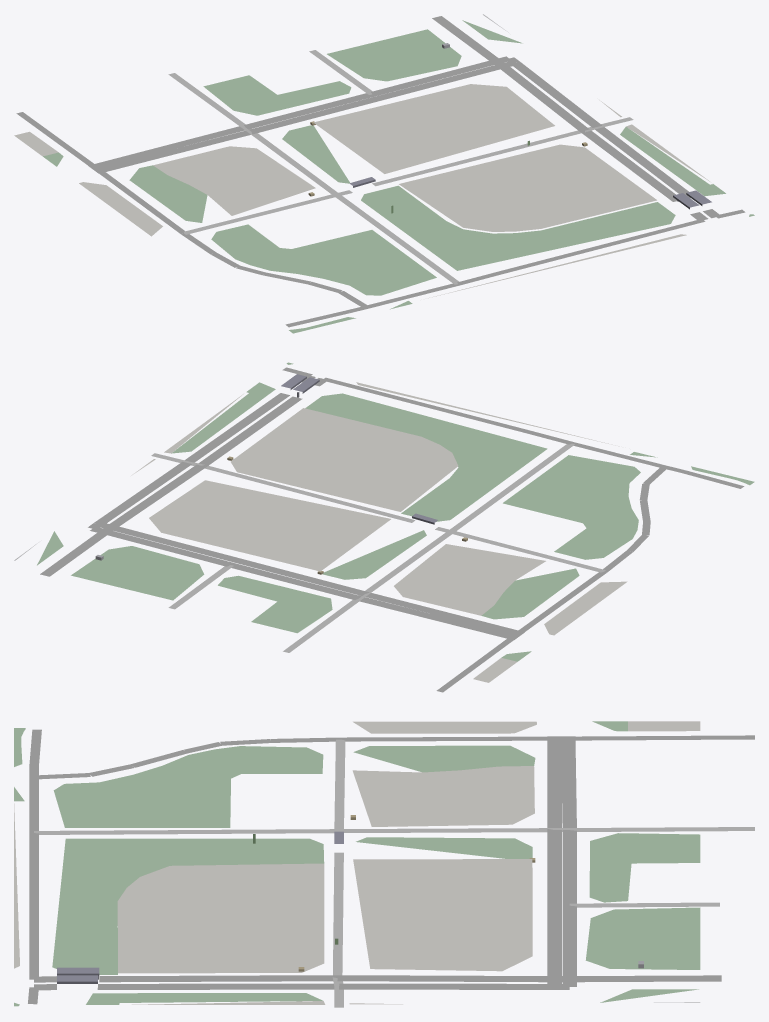
3 views of the same model, one above another, from view 1: azimuth 30°, elevation 25°; view 2: azimuth 150°, elevation 25°; view 3: azimuth 270°, elevation 25° (orthographic). The views are drawn at different scales.
Bounding box in the file's own units: 506 × 12.81 × 540.
